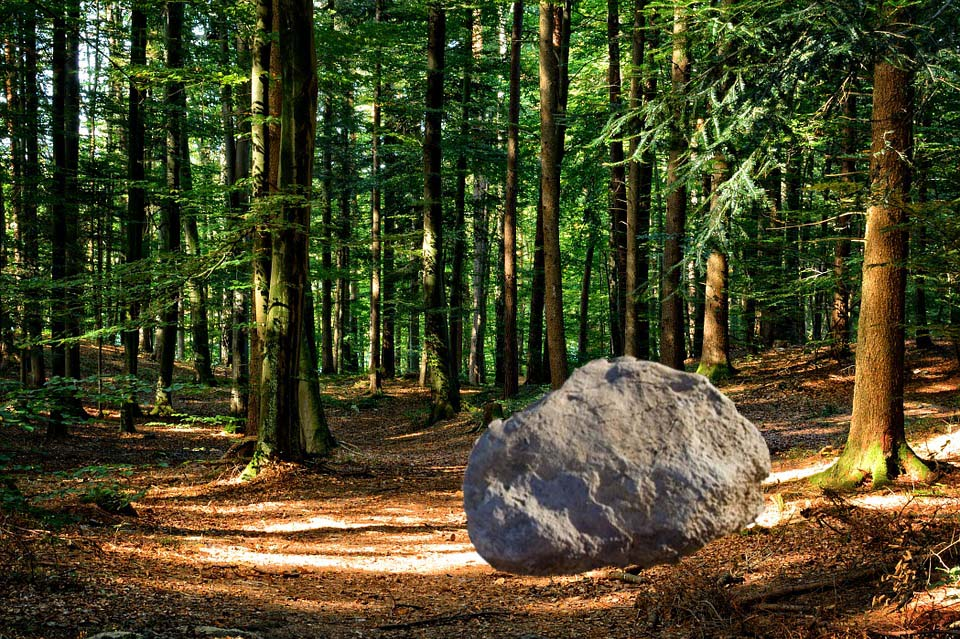Rocks: (456, 354, 777, 583)
